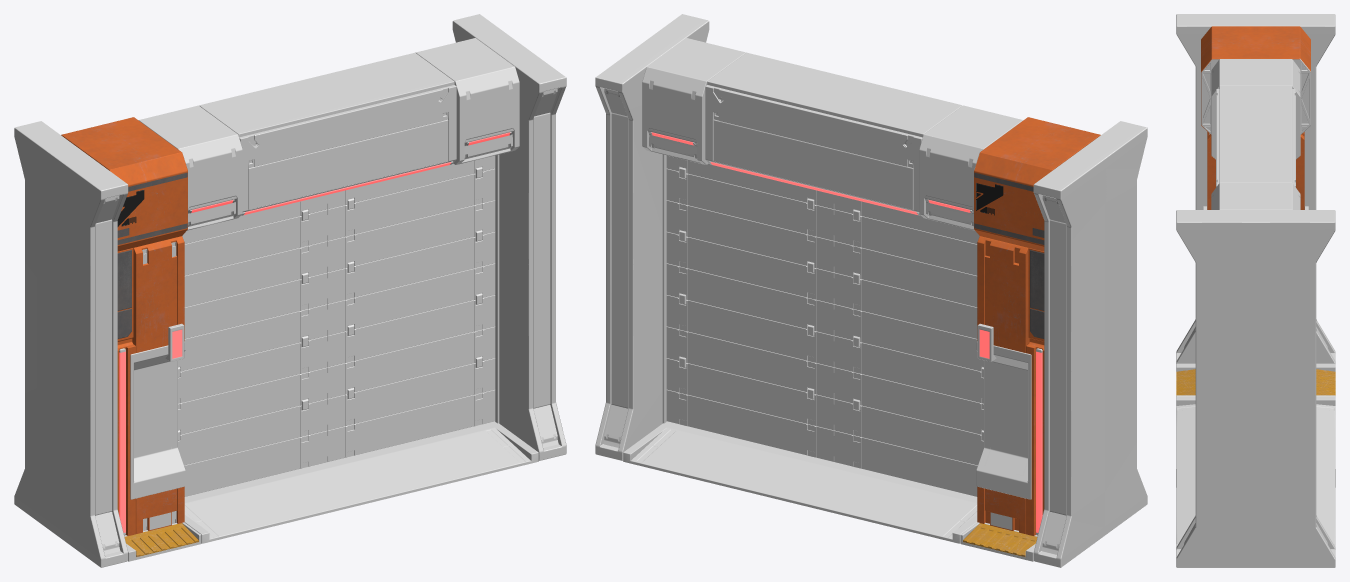
Rendered from medium_door 1.fbx.
The picture shows the model from 3 angles, left to right: view 1: azimuth 30°, elevation 25°; view 2: azimuth 150°, elevation 25°; view 3: azimuth 270°, elevation 25°; orthographic projection. The views are drawn at different scales.
Parts seen in each view (by area): view 1: Cube.146, Cube.147, Cube.142, Cube.140; view 2: Cube.146, Cube.147, Cube.143, Cube.141; view 3: Cube.146.
Part boxes in pixels (x1,y1,x2,y2): Cube.146: (14, 14, 566, 567); Cube.147: (178, 155, 495, 496); Cube.142: (119, 351, 125, 532); Cube.140: (244, 162, 451, 214); Cube.146: (595, 14, 1147, 567); Cube.147: (666, 155, 983, 496); Cube.143: (1036, 351, 1042, 532); Cube.141: (710, 162, 917, 214); Cube.146: (1176, 14, 1335, 567).
Bounding box in the file's own units: 650 × 503 × 210.
